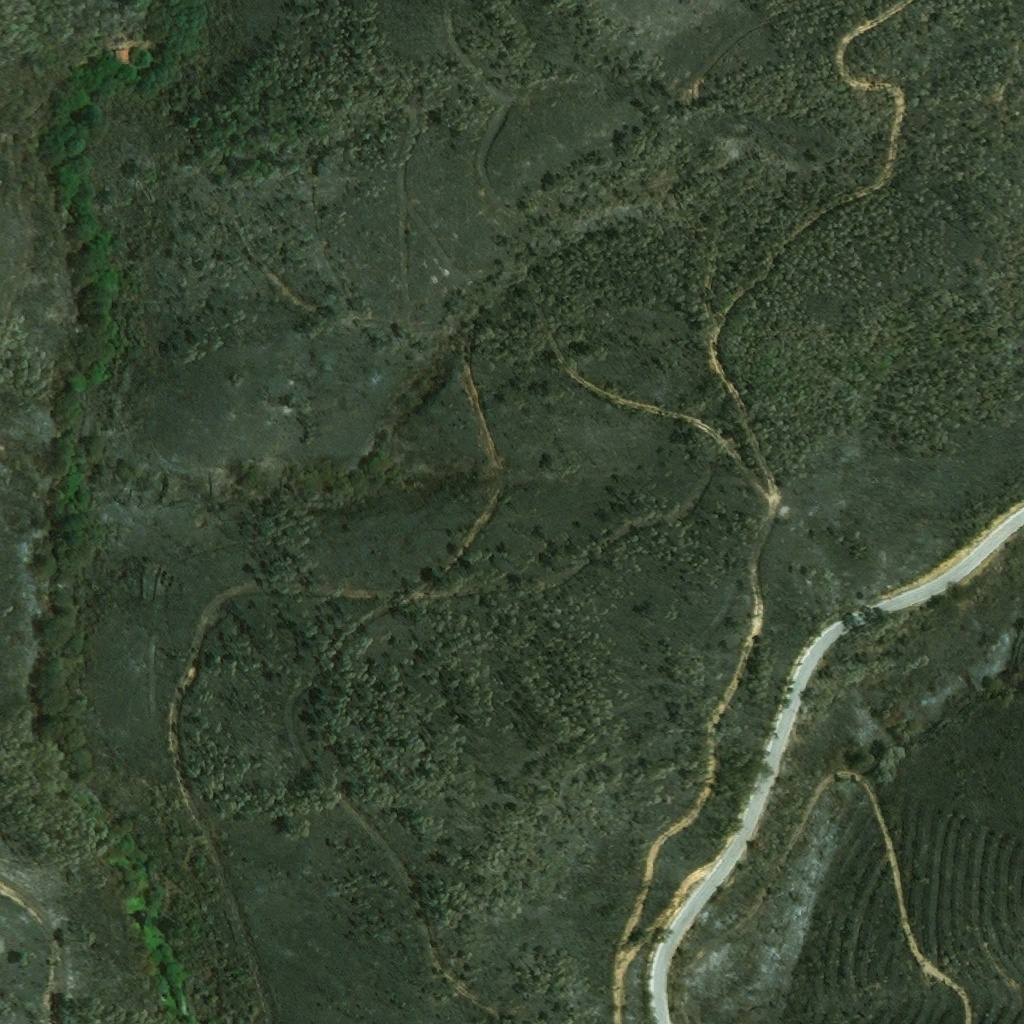0 no-damage: (113, 49, 126, 67)
